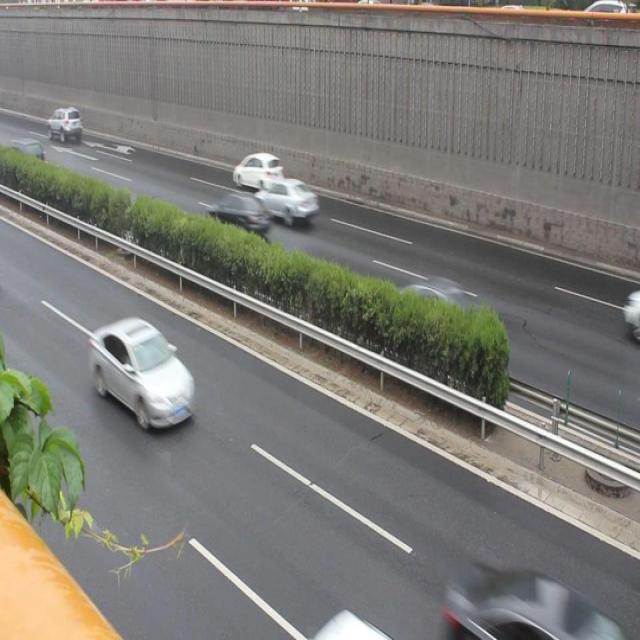car: (89, 319, 194, 435), (394, 269, 486, 348), (207, 188, 266, 243), (256, 176, 318, 228), (229, 148, 281, 195)
